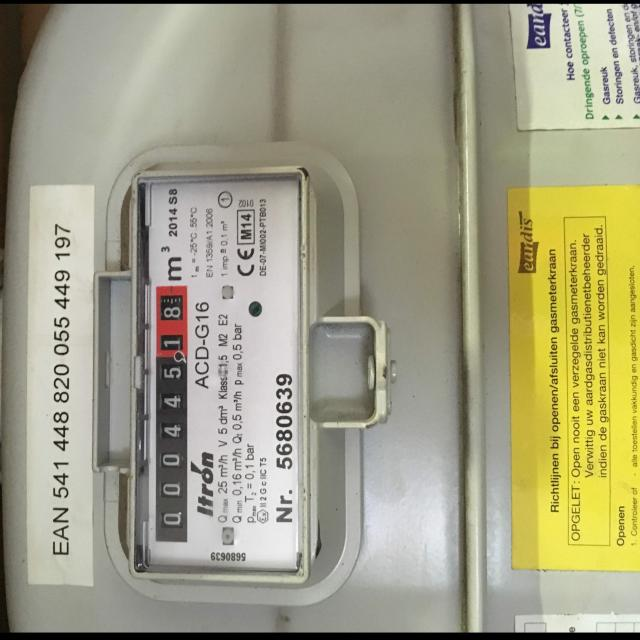gaz_meter: (0, 3, 482, 623)
indication: (155, 287, 188, 543)
